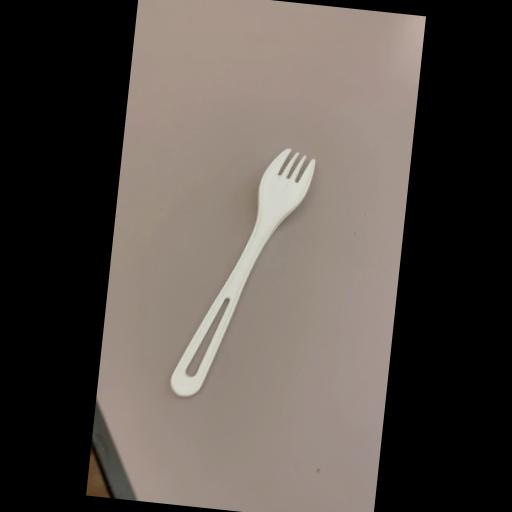utensil: (164, 134, 338, 417)
